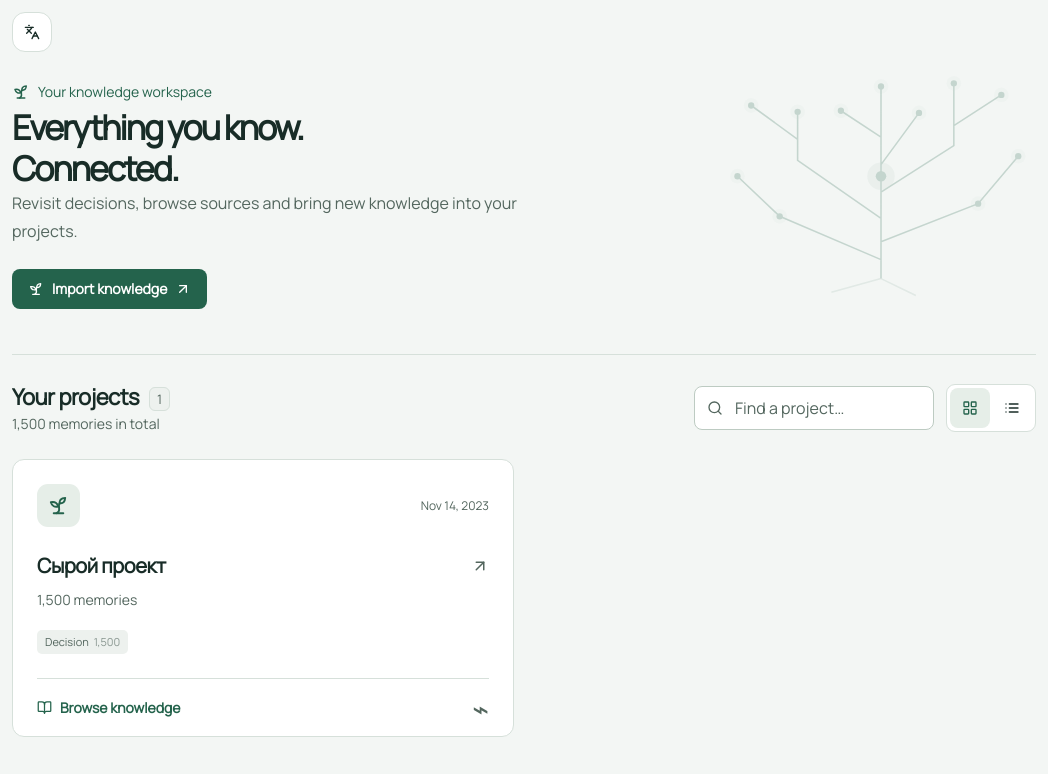
Test: changes visible chrome, persists the language and leaves project content untouched
This screenshot has width=1048, height=774.
Later steps or results of the test are not shown.
Expected: the heading "Everything you know.Connected." is shown, [12,104,303,191]
Click the button named "Language": (32, 32) [12,12,52,52]
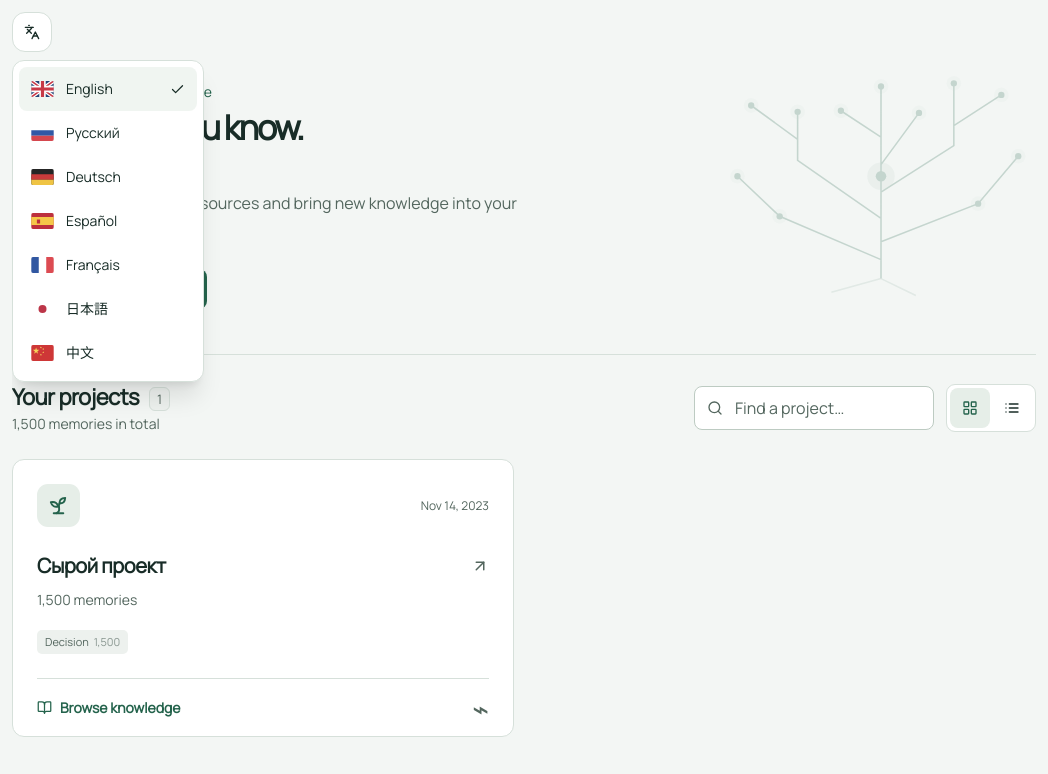
Click the menu item "Русский": (75, 132) [31,123,120,142]
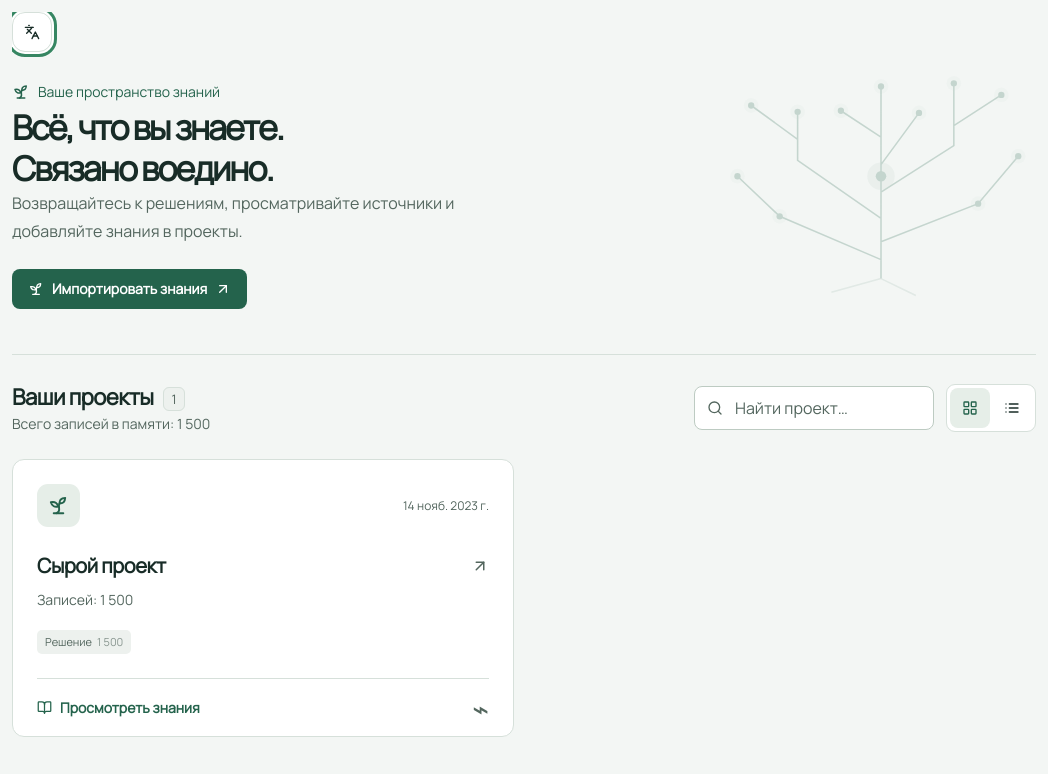
Expected: the link with aria-label "Открыть проект Сырой проект" is shown, [37,551,489,581]
Now the heading "Всё, что вы знаете.Связано воедино." is shown, box [12,104,283,191]
